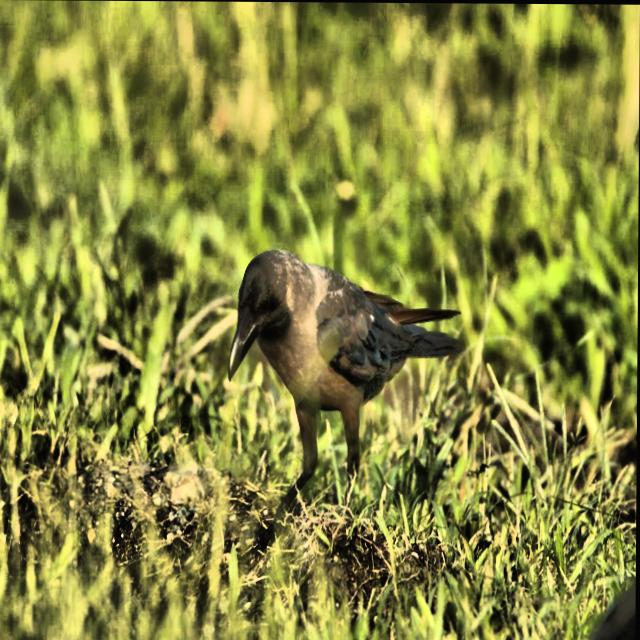crow: (219, 242, 471, 518)
